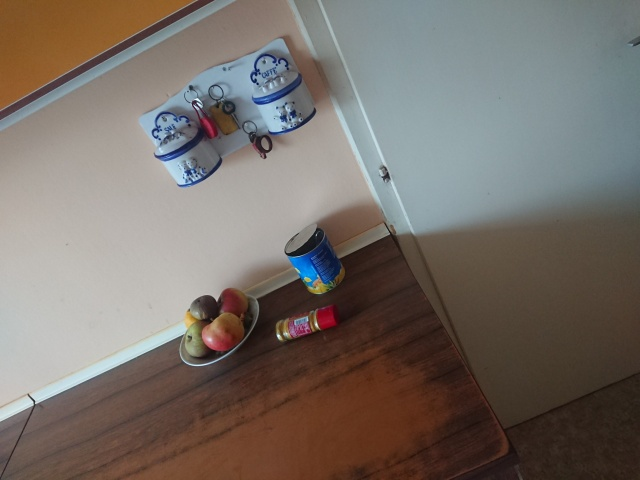Kotanyi Curry Spices Mix 70g: (273, 301, 342, 342)
